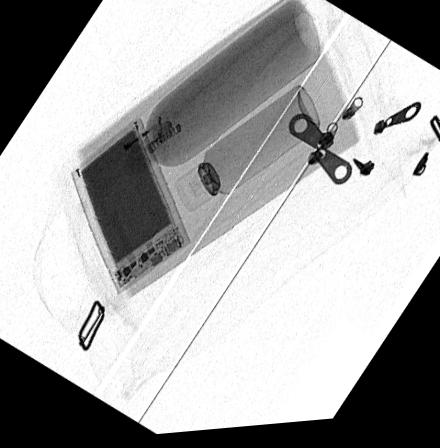Lighter: (114, 116, 172, 163)
Powerbank: (69, 118, 189, 296)
Sprayer: (171, 89, 318, 217)
